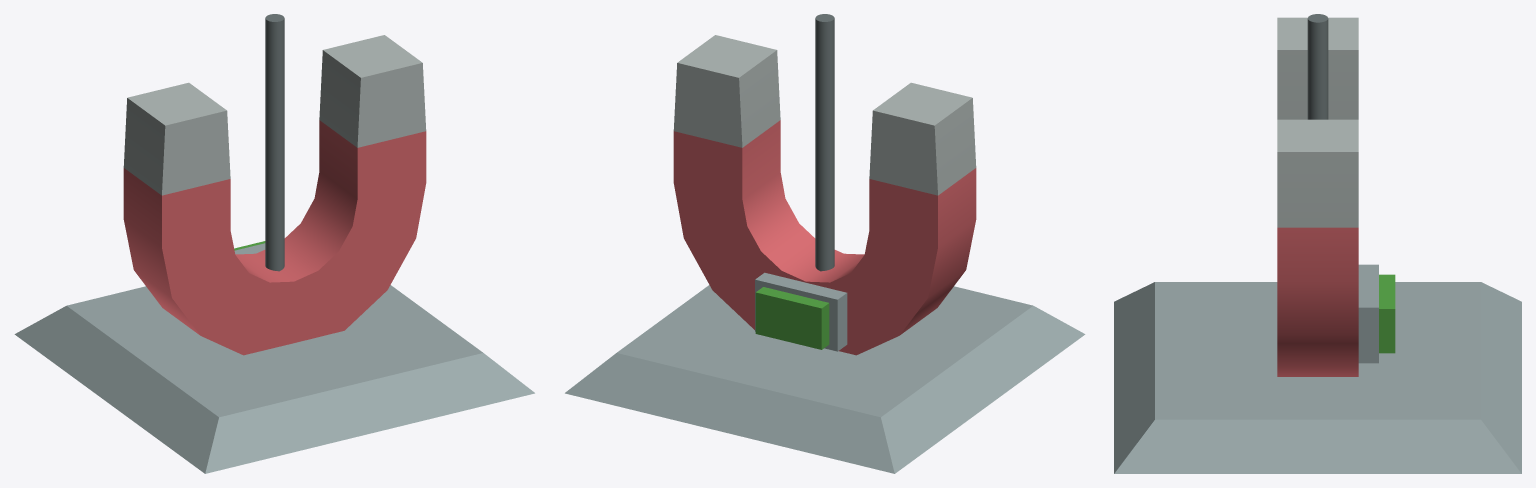
File: magnet.fbx
The picture shows the model from 3 angles, left to right: view 1: azimuth 30°, elevation 25°; view 2: azimuth 150°, elevation 25°; view 3: azimuth 270°, elevation 25°; orthographic projection. The views are drawn at different scales.
Parts seen in each view (by area): view 1: MagnetObject, MagnetBase, MagnetRail; view 2: MagnetObject, MagnetBase, MagnetRail, Light1, LightFrame; view 3: MagnetBase, MagnetObject, MagnetRail, LightFrame, Light1.
Boxes of the visible parts, <box> form: MagnetObject: <box>123,35,426,355</box>; MagnetBase: <box>14,285,534,473</box>; MagnetRail: <box>265,14,284,271</box>; MagnetObject: <box>673,35,976,355</box>; MagnetBase: <box>565,285,1085,473</box>; MagnetRail: <box>815,14,834,271</box>; Light1: <box>755,287,829,349</box>; LightFrame: <box>755,272,847,351</box>; MagnetBase: <box>1114,282,1521,473</box>; MagnetObject: <box>1277,17,1358,376</box>; MagnetRail: <box>1307,14,1328,119</box>; LightFrame: <box>1358,264,1378,363</box>; Light1: <box>1379,274,1395,353</box>.
Bounding box in the file's own units: 100 × 100 × 100.
